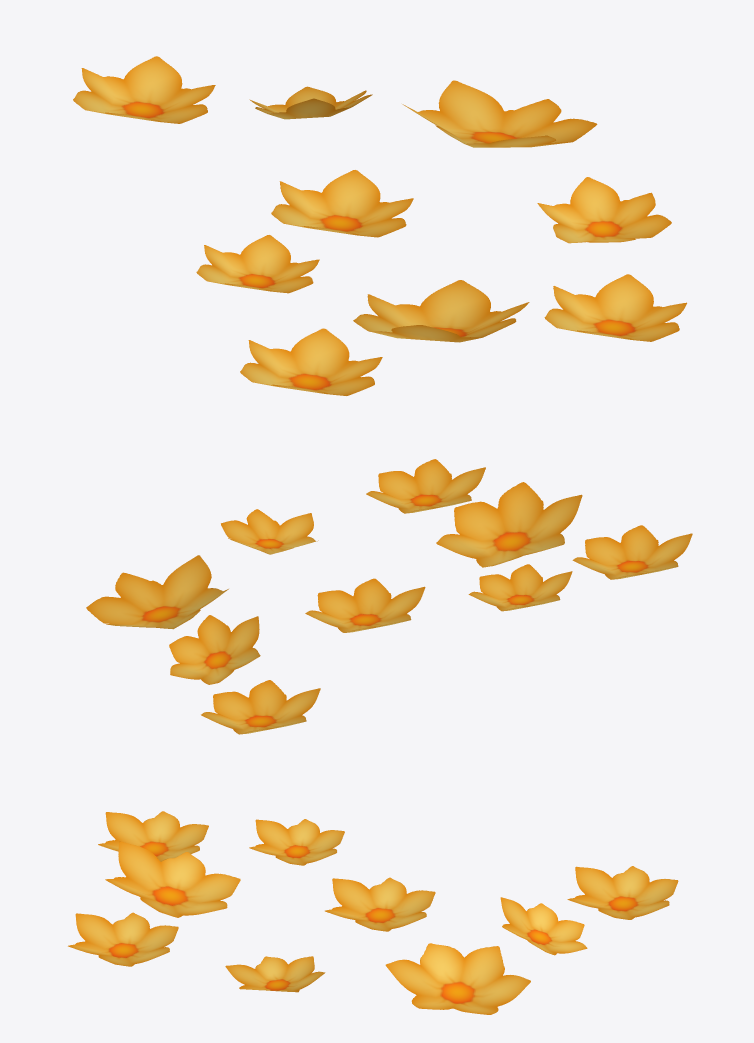
File: Flower01A.glb
3 views of the same model, one above another, from view 1: azimuth 30°, elevation 25°; view 2: azimuth 150°, elevation 25°; view 3: azimuth 270°, elevation 25° (orthographic). The views are drawn at different scales.
Visible parts, largest first — view 1: stylizedFlower01a; view 2: stylizedFlower01a; view 3: stylizedFlower01a.
Boxes of the visible parts, bbox=[...] form: stylizedFlower01a: bbox=[73, 56, 686, 395]; stylizedFlower01a: bbox=[86, 459, 692, 734]; stylizedFlower01a: bbox=[68, 811, 678, 1014].
Size of the model in its own units: 0.5808 by 0.0727 by 0.7676.
Materials: 1 (1 with a texture image).
